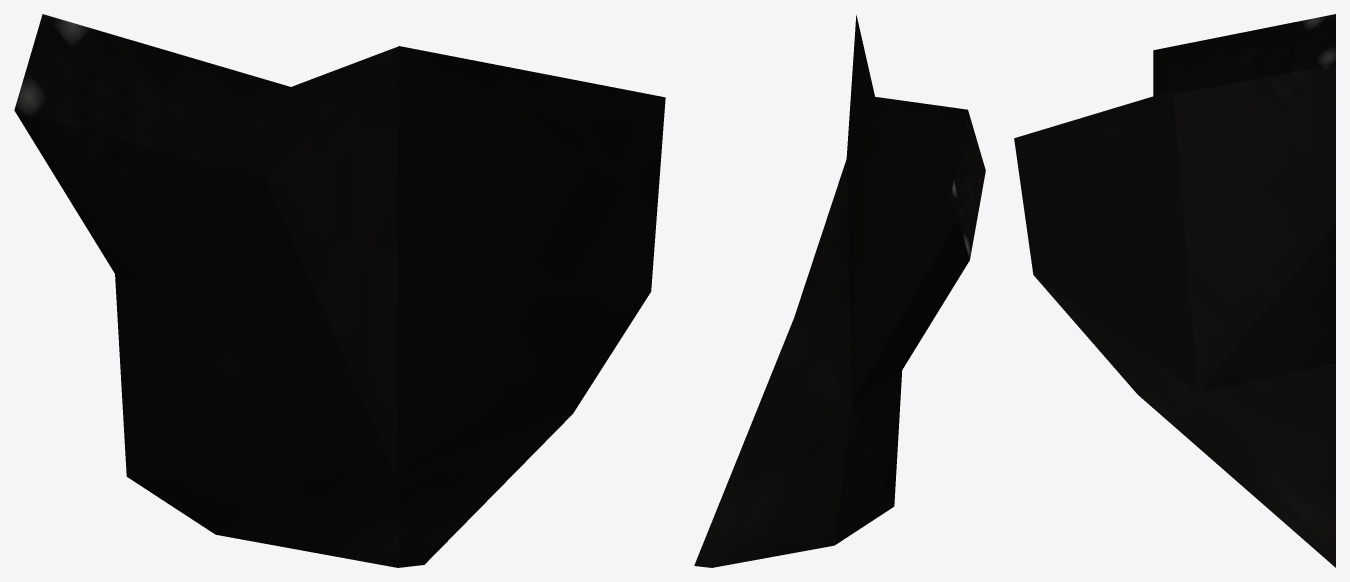
The picture shows the model from 3 angles, left to right: view 1: azimuth 30°, elevation 25°; view 2: azimuth 150°, elevation 25°; view 3: azimuth 270°, elevation 25°; orthographic projection. The views are drawn at different scales.
Size of the model in its own units: 0.6097 by 0.915 by 0.6211.
Materials: 1 (1 with a texture image).
